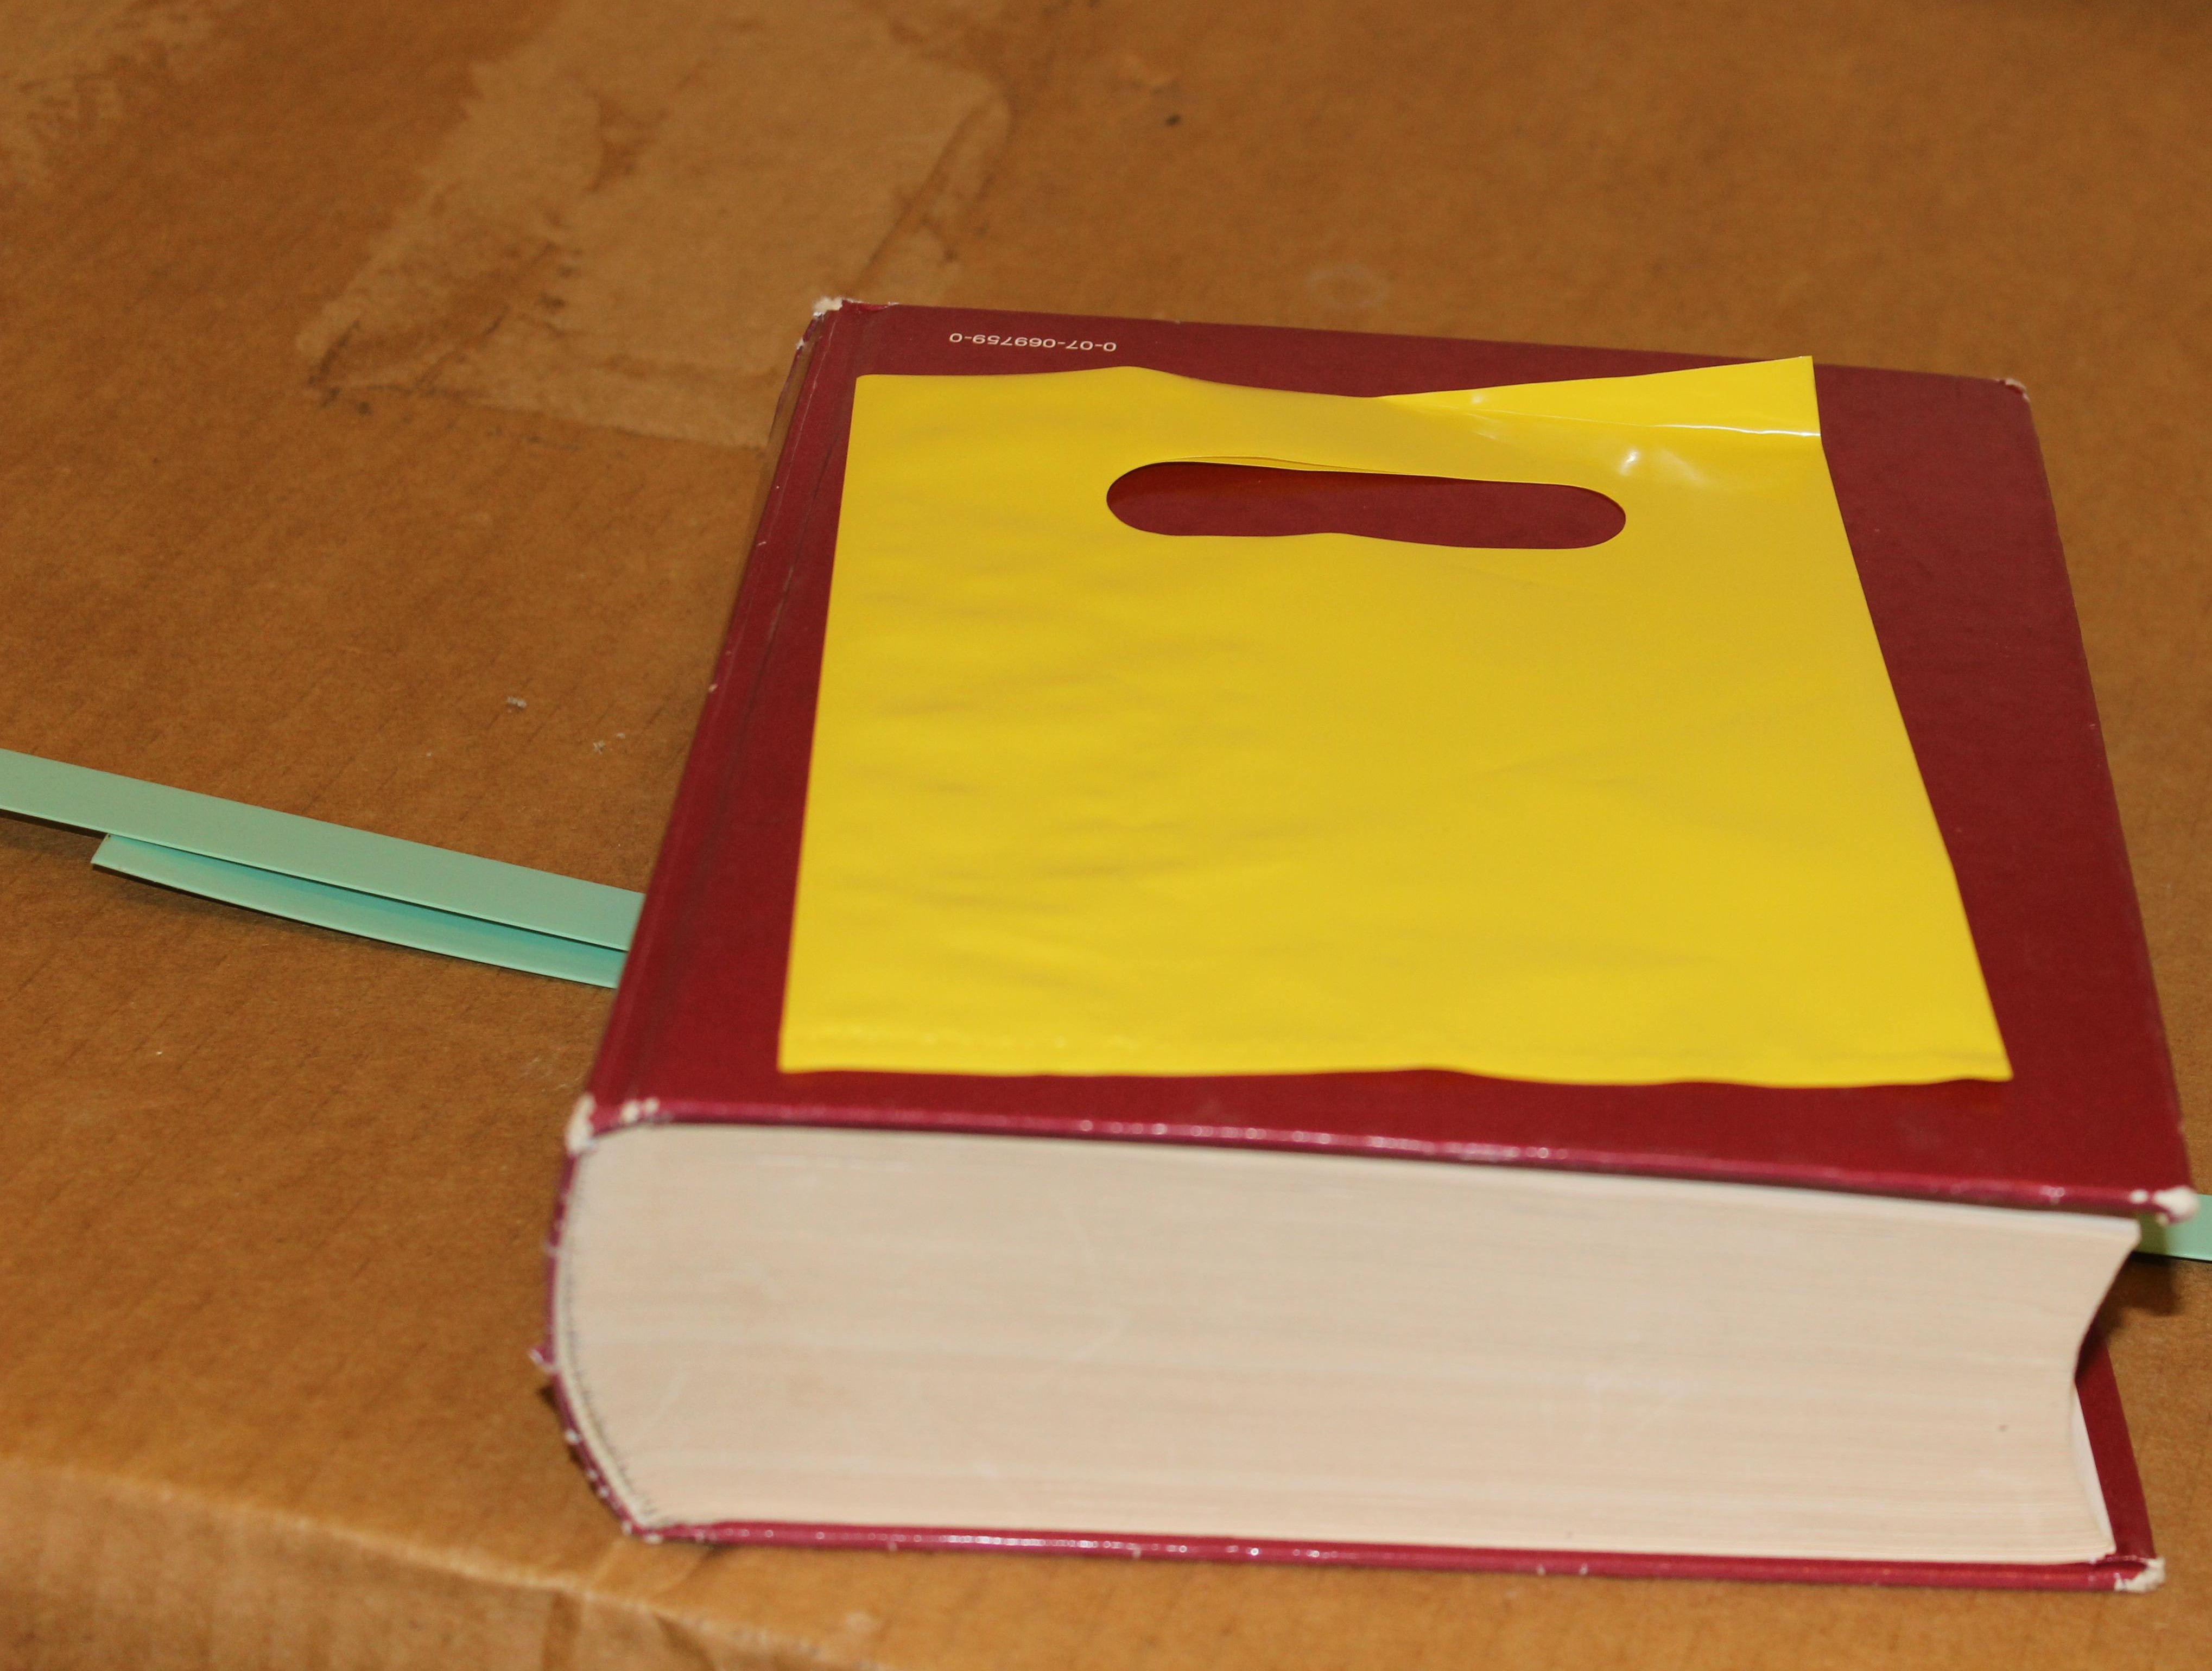yellowBag: (746, 304, 2038, 1155)
